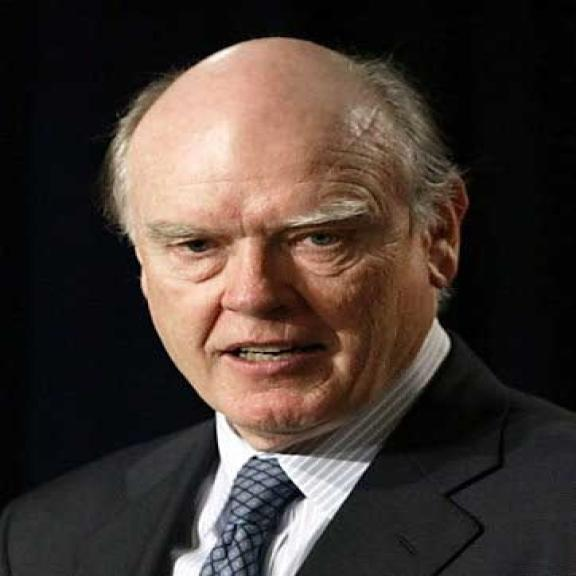face: (107, 37, 468, 438)
